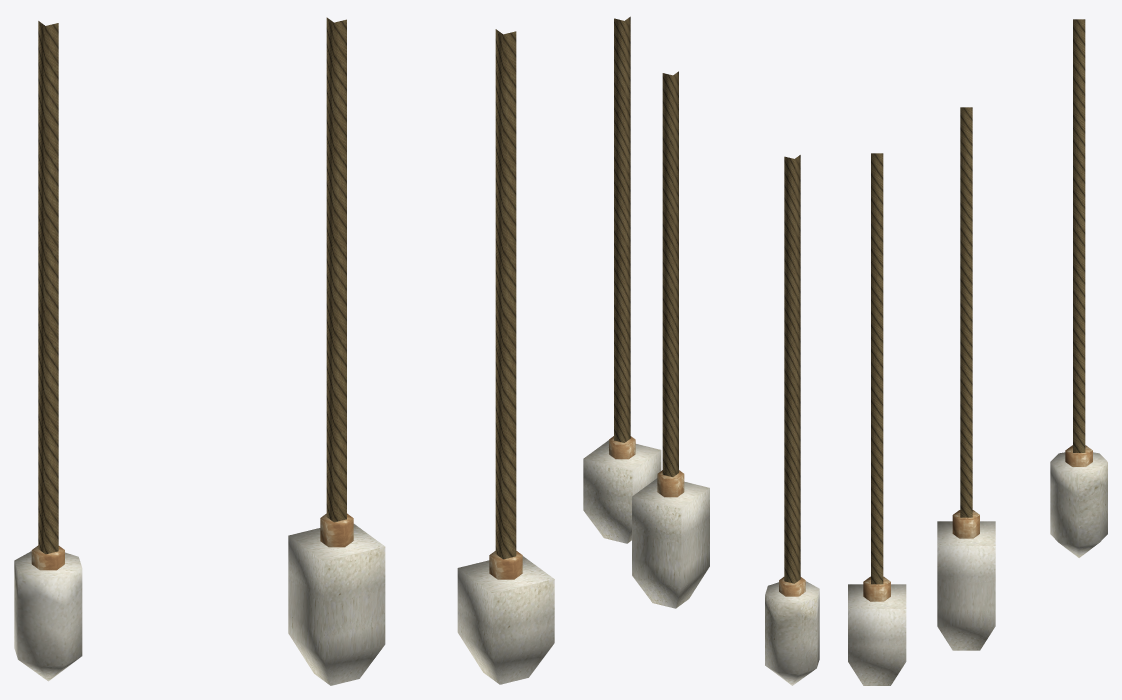
The model's file is fishing_buoy.glb.
The picture shows the model from 3 angles, left to right: view 1: azimuth 30°, elevation 25°; view 2: azimuth 150°, elevation 25°; view 3: azimuth 270°, elevation 25°; orthographic projection. The views are drawn at different scales.
Parts seen in each view (by area): view 1: natural_rope.jpg__, lighthouseWall_diff.png__, metaldirt_diff.png__; view 2: natural_rope.jpg__, lighthouseWall_diff.png__, metaldirt_diff.png__; view 3: lighthouseWall_diff.png__, natural_rope.jpg__, metaldirt_diff.png__.
Boxes of the visible parts, bbox=[...] form: natural_rope.jpg__: bbox=[38, 17, 516, 559]; lighthouseWall_diff.png__: bbox=[14, 524, 554, 685]; metaldirt_diff.png__: bbox=[31, 513, 522, 579]; natural_rope.jpg__: bbox=[614, 16, 800, 583]; lighthouseWall_diff.png__: bbox=[583, 440, 819, 685]; metaldirt_diff.png__: bbox=[609, 436, 805, 596]; lighthouseWall_diff.png__: bbox=[848, 452, 1107, 685]; natural_rope.jpg__: bbox=[871, 19, 1085, 584]; metaldirt_diff.png__: bbox=[863, 445, 1092, 601].
Bounding box in the file's own units: 4.18 × 6.67 × 2.9.
Materials: 3 (3 with a texture image).
